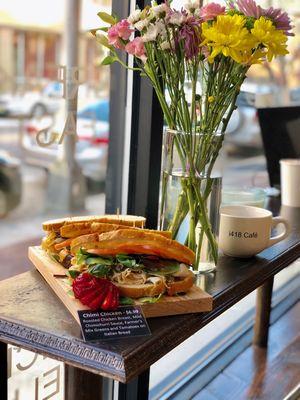pizza: (218, 204, 287, 259), (280, 158, 300, 209)
soup: (68, 227, 197, 300), (41, 214, 148, 267)
